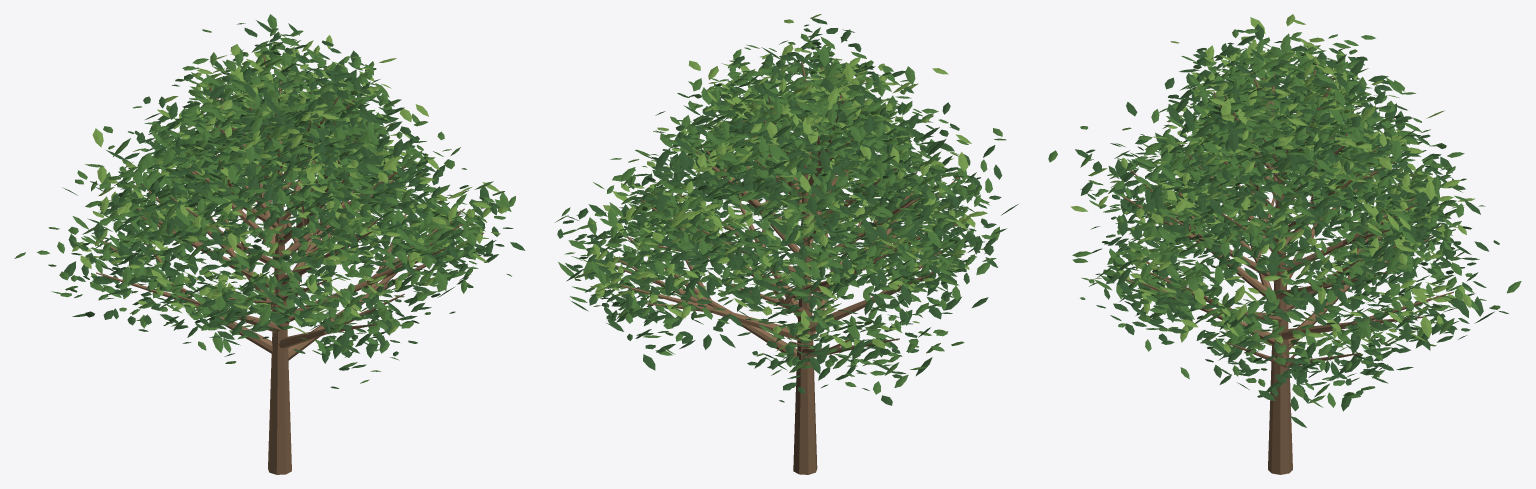
The model's file is bredkronigt_lovtrad.glb.
3 renders of one model, left to right at view 1: azimuth 30°, elevation 25°; view 2: azimuth 150°, elevation 25°; view 3: azimuth 270°, elevation 25°, orthographic.
Visible parts, largest first — view 1: Kajträd; view 2: Kajträd; view 3: Kajträd.
Part boxes in pixels (x1=…): Kajträd: x1=14, y1=14, x2=525, y2=474; Kajträd: x1=555, y1=14, x2=1018, y2=474; Kajträd: x1=1048, y1=14, x2=1521, y2=474.
Bounding box in the file's own units: 7.74 × 7.21 × 7.15.
